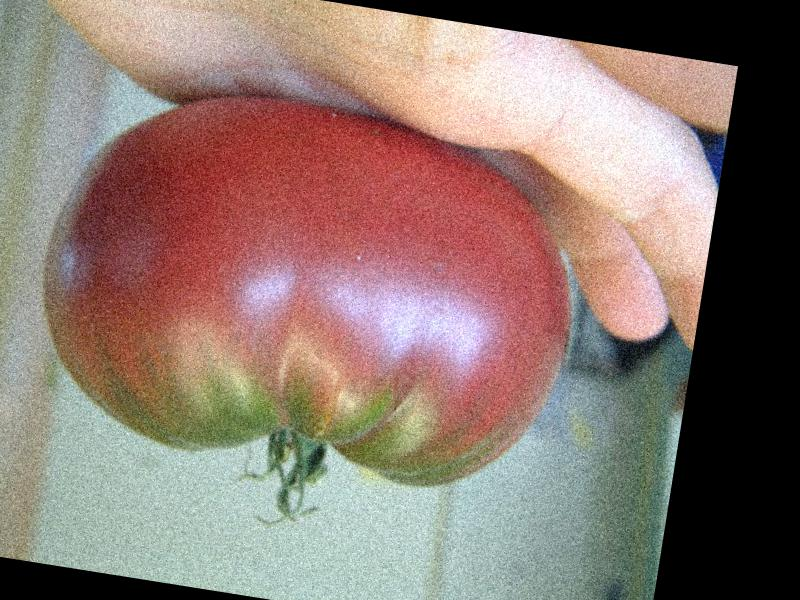Tomato: (19, 66, 598, 507)
